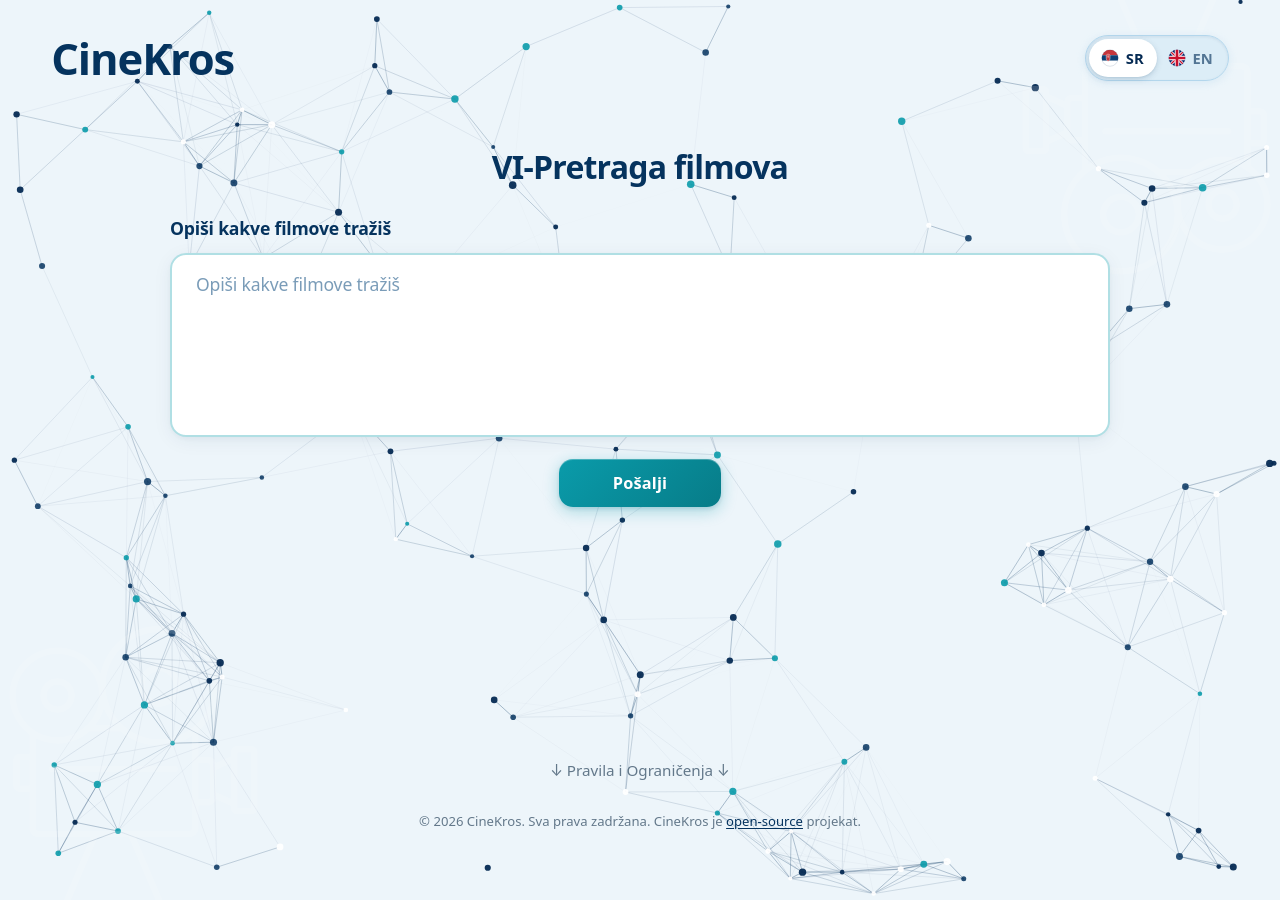
language-aware v2.1 recommendation boundary › rejects a malformed mismatch status or message
Type "quiet movie" into the text box at [640, 345], box [170, 253, 1110, 437]
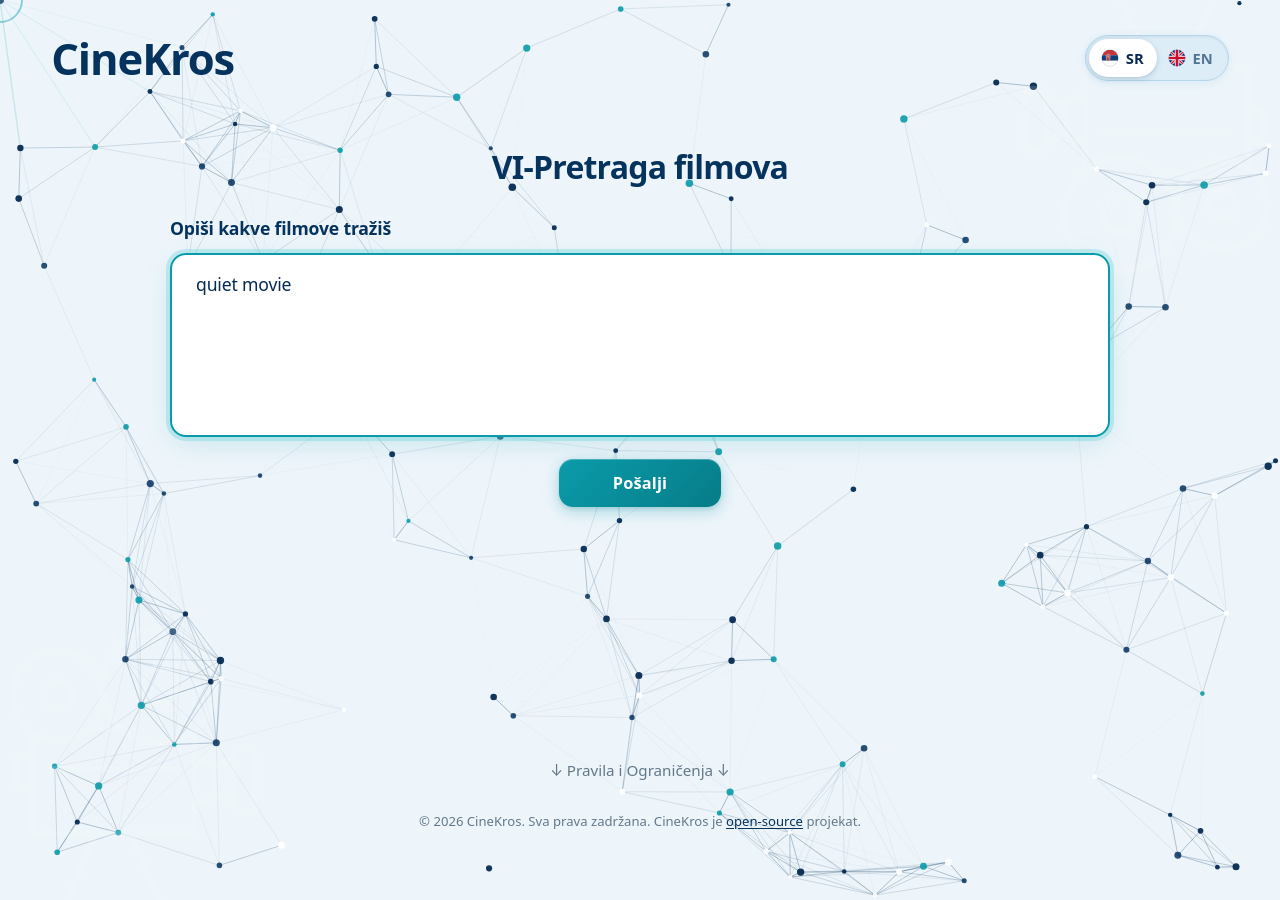
Click the button "Pošalji" at [640, 483], box [559, 459, 721, 507]
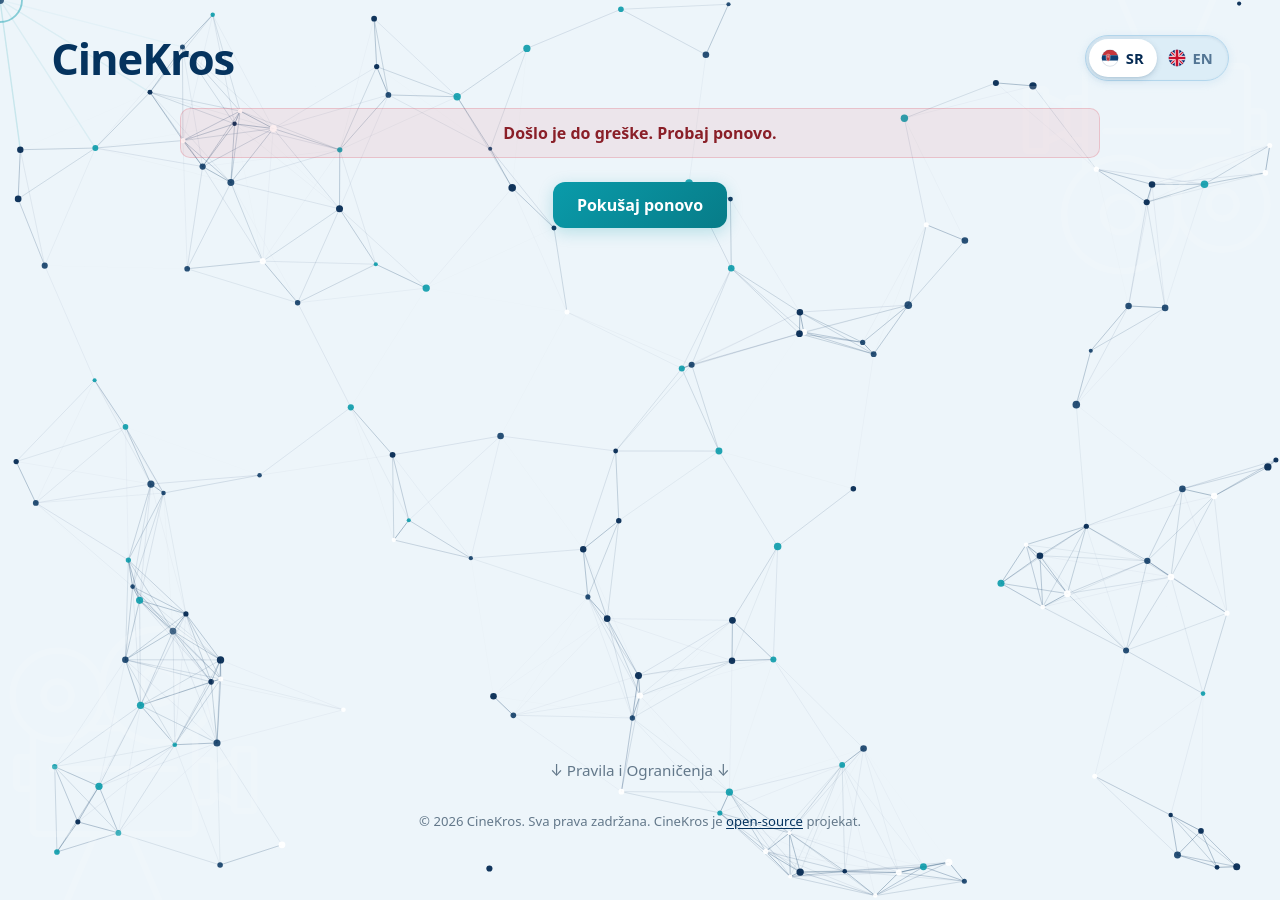
Result: the text "Došlo je do greške. Probaj ponovo." is shown at [180, 108, 1100, 158]
